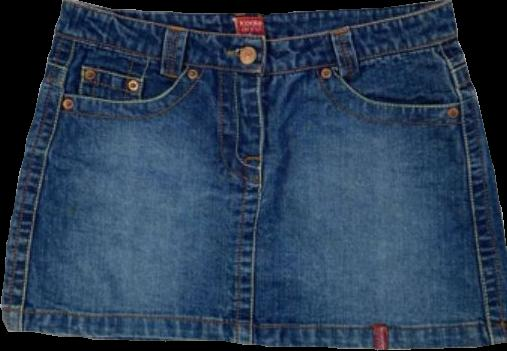Hemline: (6, 330, 506, 350)
Waistline: (62, 0, 451, 37)
